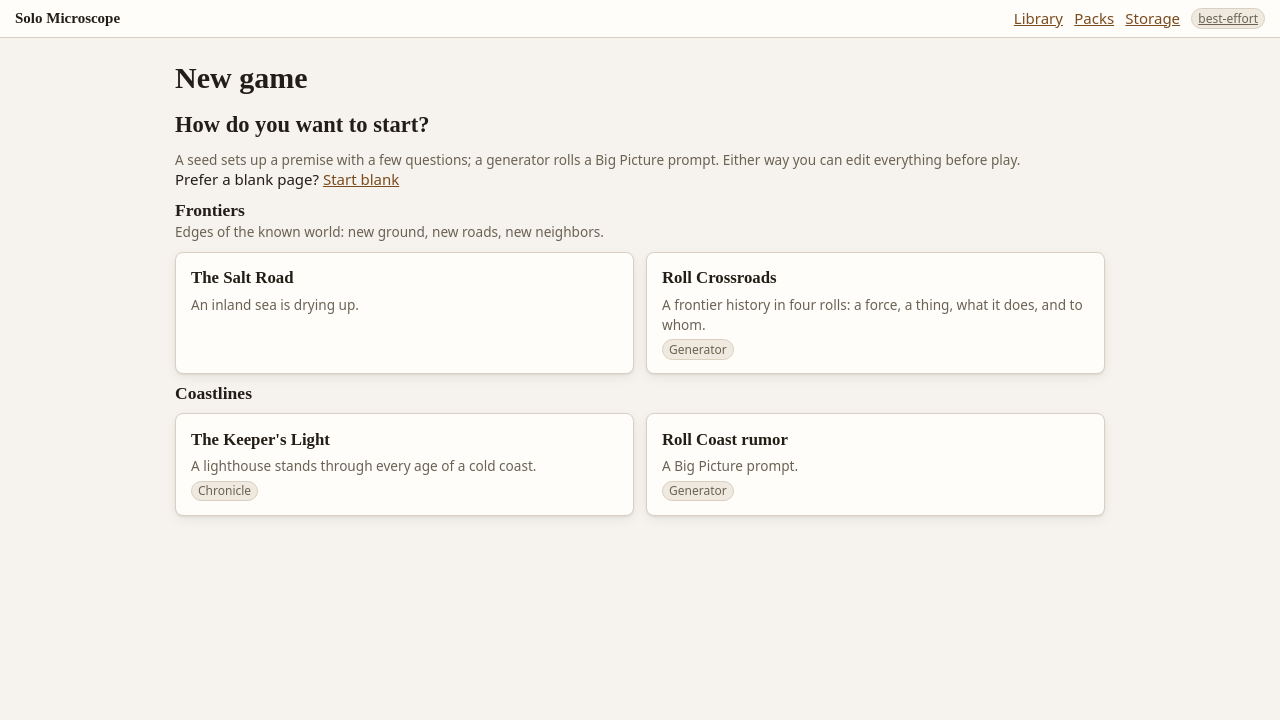
Test: New game: choose a start first › a Chronicle seed makes a Chronicle game
Click the button "The Keeper's Light" at (404, 464), box [175,413,634,516]
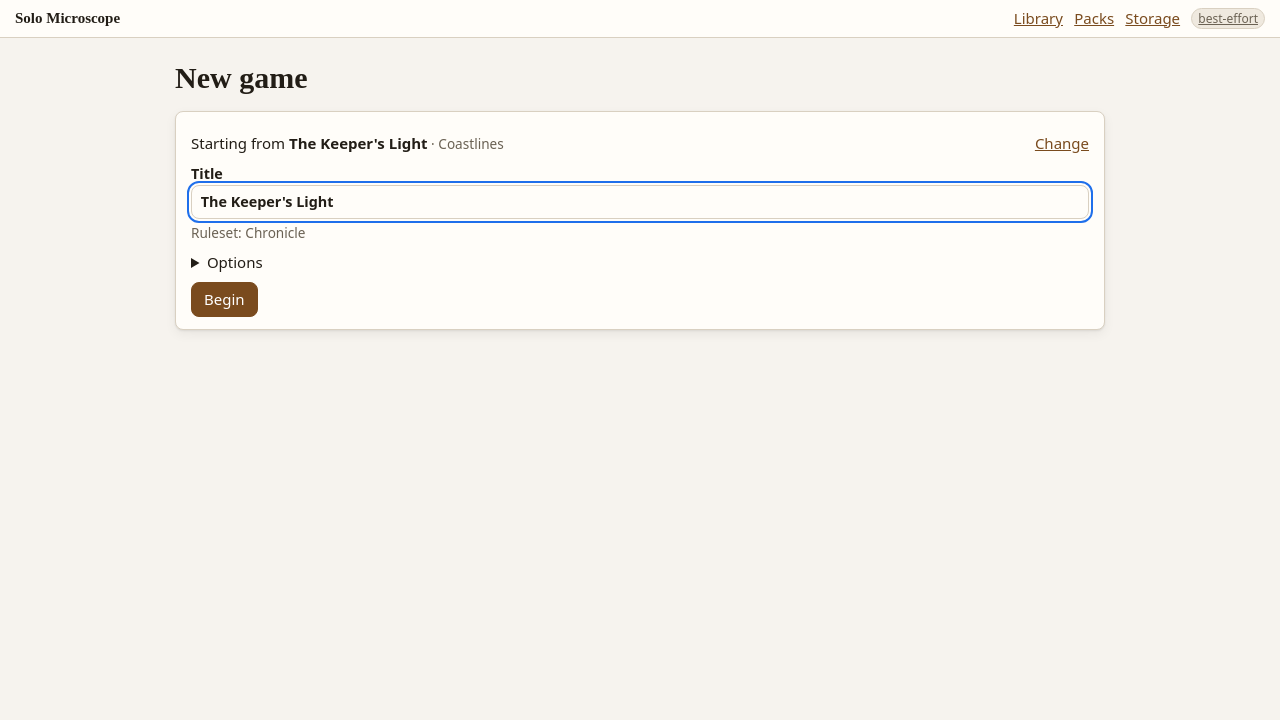
Now the element named "Name your game" shows "Ruleset: Chronicle", box [175,111,1105,330]
Click the button "Begin" at (224, 299), box [191,282,258,317]
(page scrolled)
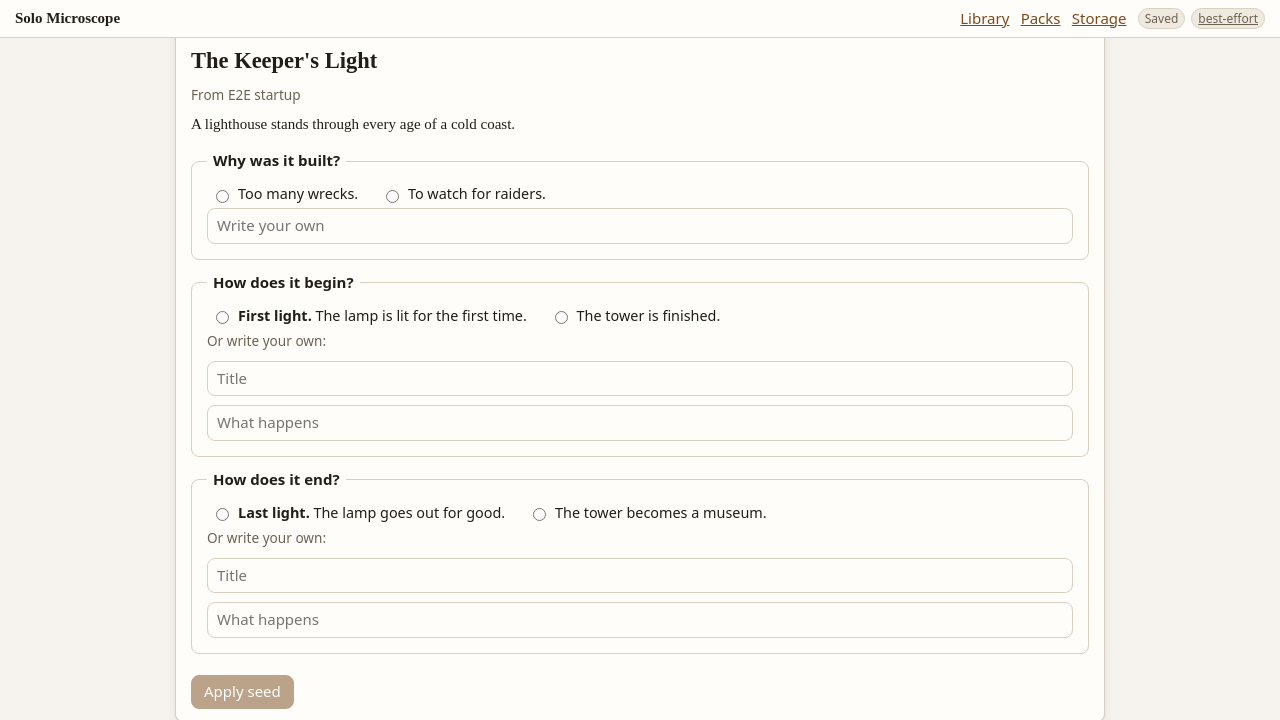
Now the element named "Seed: The Keeper's Light" is shown
